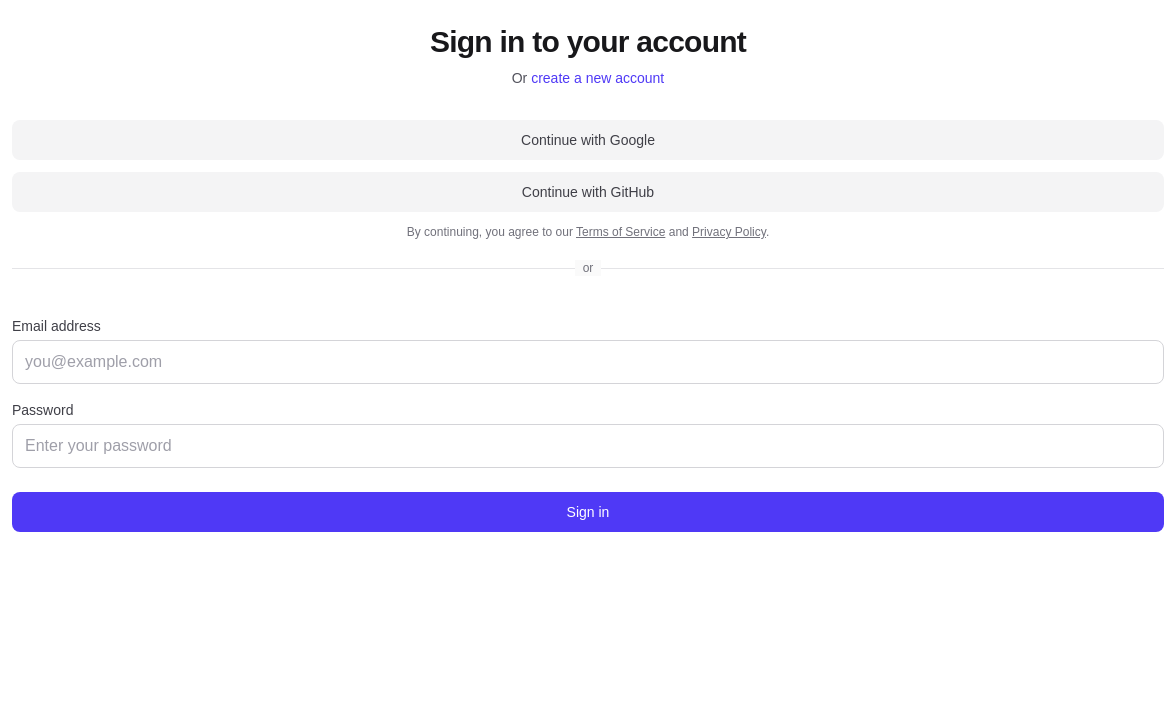
Scenario: LoginPage › shows a generic error for failed credentials
Type "student@example.com" into the field labelled "Email address" at (588,362), box top-left (12, 340), bottom-right (1164, 384)
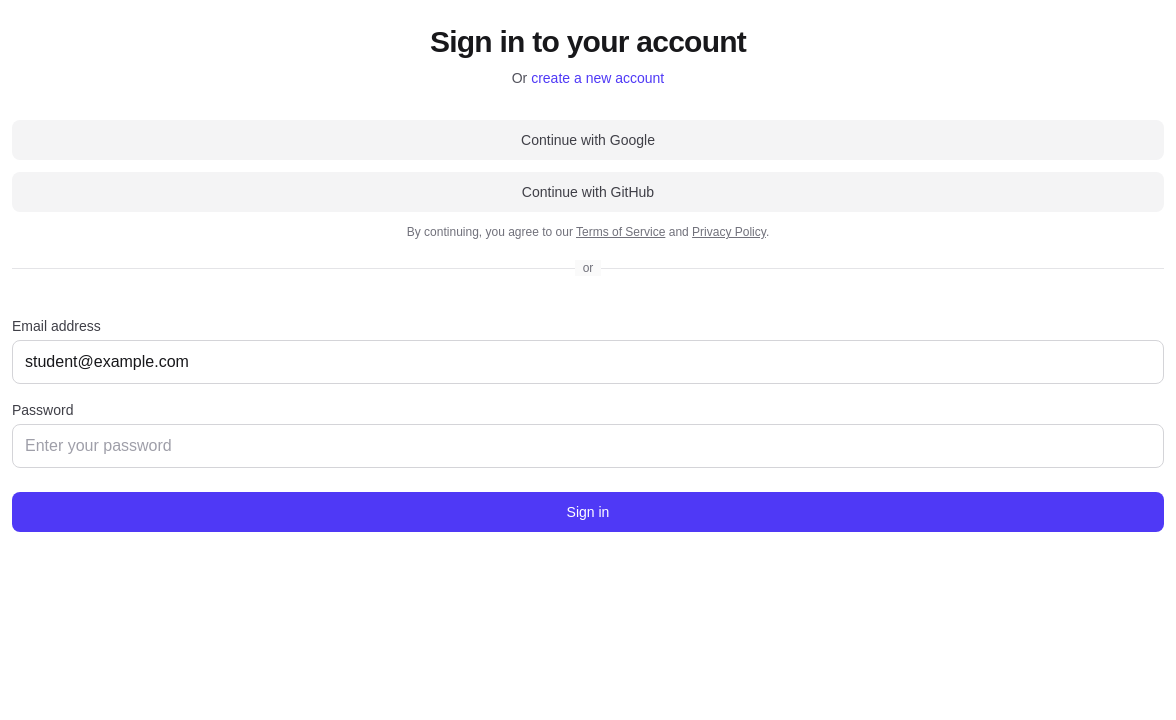
Type "password123" into the password field labelled "Password" at (588,446), box top-left (12, 424), bottom-right (1164, 468)
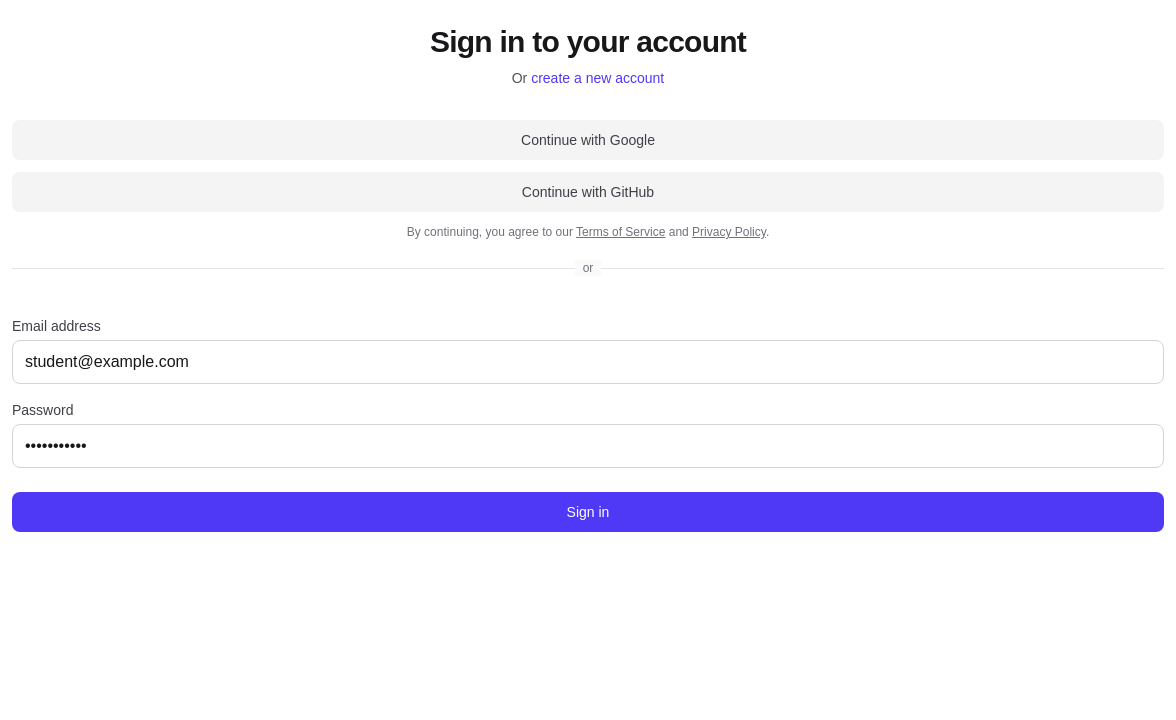
Click the button "Sign in" at (588,512), box top-left (12, 492), bottom-right (1164, 532)
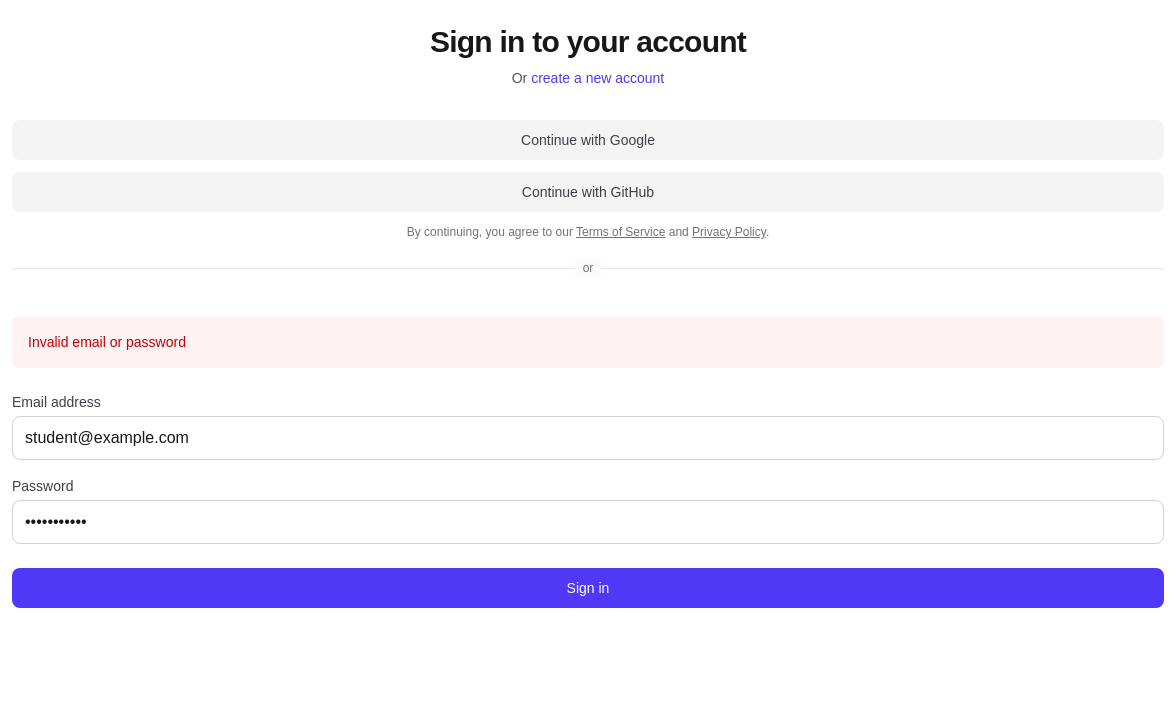
Expected: the text "Invalid email or password" is shown, top-left (28, 334), bottom-right (186, 350)
